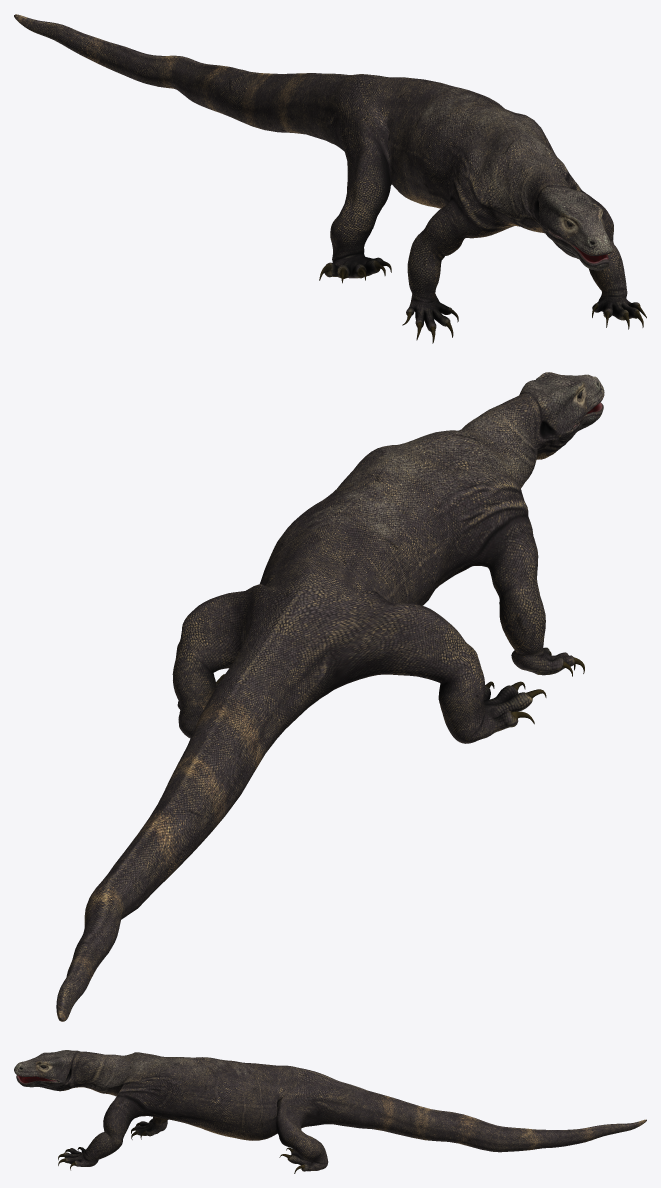
The model's file is komodo.glb.
3 views of the same model, one above another, from view 1: azimuth 30°, elevation 25°; view 2: azimuth 150°, elevation 25°; view 3: azimuth 270°, elevation 25° (orthographic). The views are drawn at different scales.
Visible parts, largest first — view 1: Body; view 2: Body; view 3: Body.
Part boxes in pixels (x1=…): Body: x1=14, y1=14, x2=646, y2=343; Body: x1=56, y1=372, x2=604, y2=1021; Body: x1=14, y1=1050, x2=646, y2=1173.
Bounding box in the file's own units: 0.6903 × 0.5073 × 2.68.
Materials: 1 (1 with a texture image).
